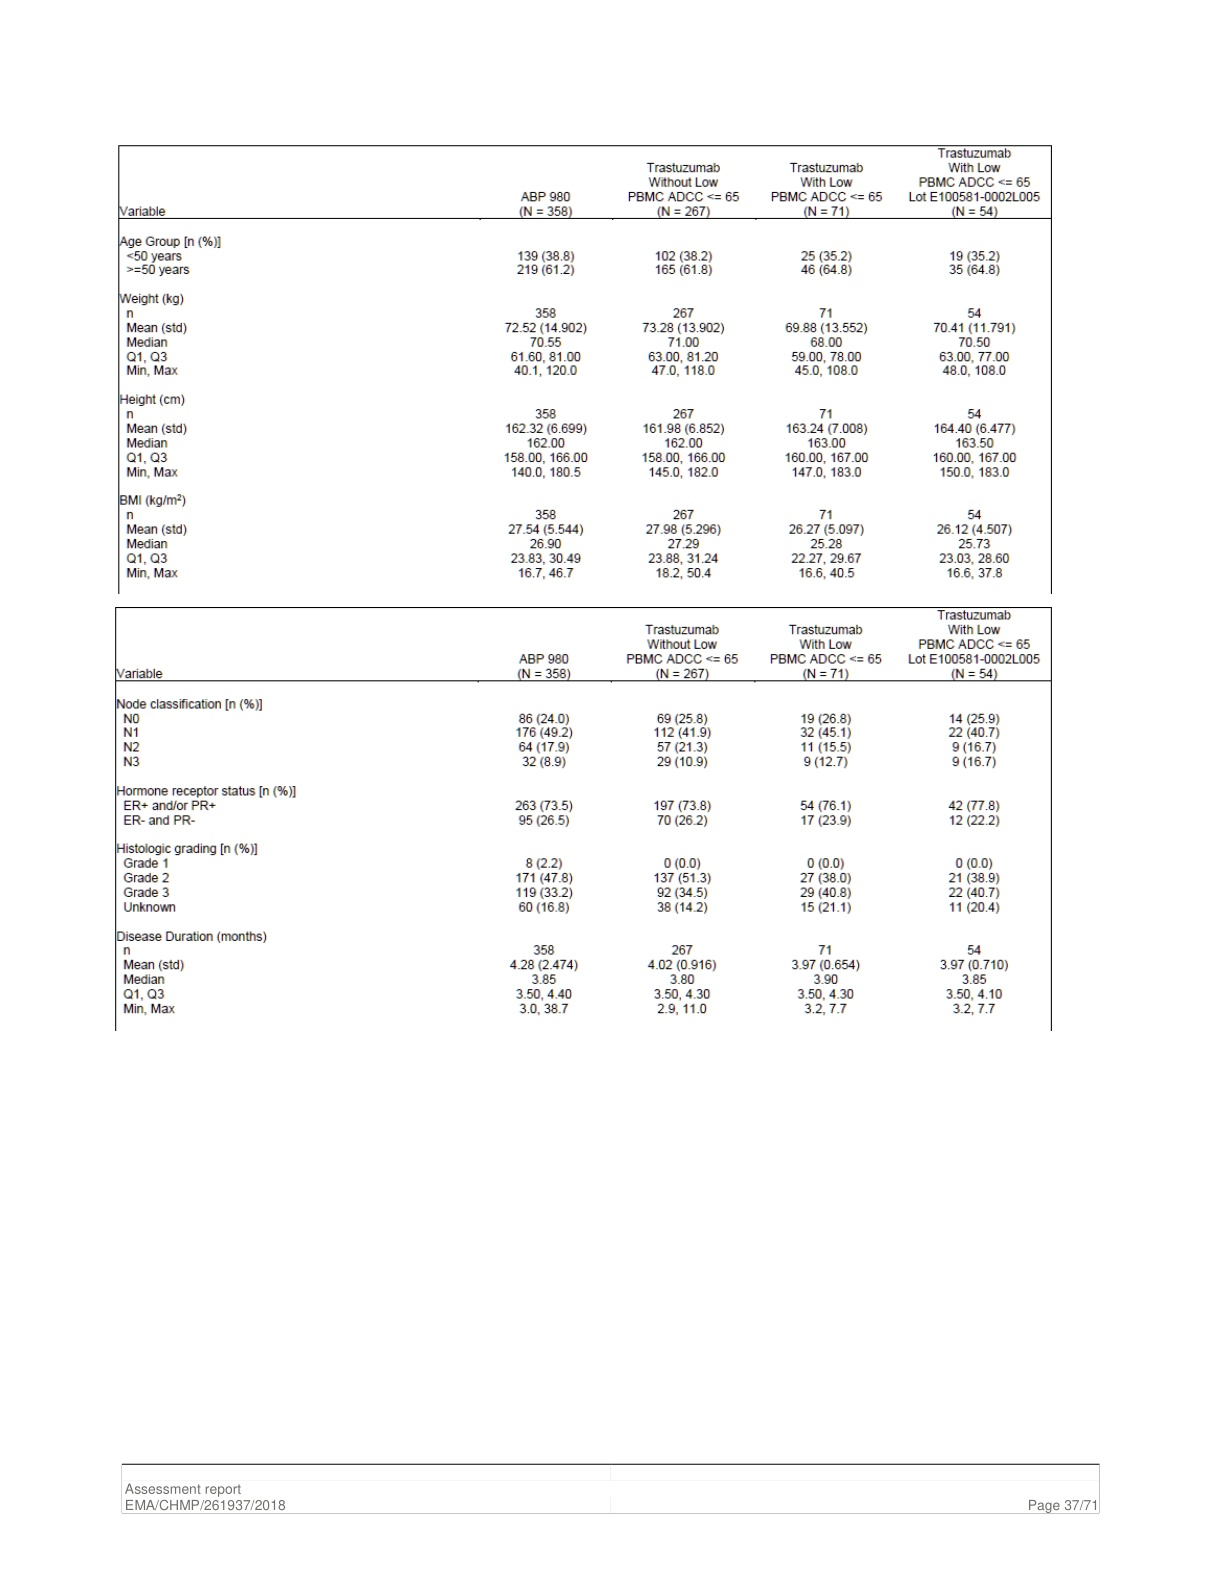partial_lined: (117, 145, 1052, 595), (114, 604, 1056, 1036)
